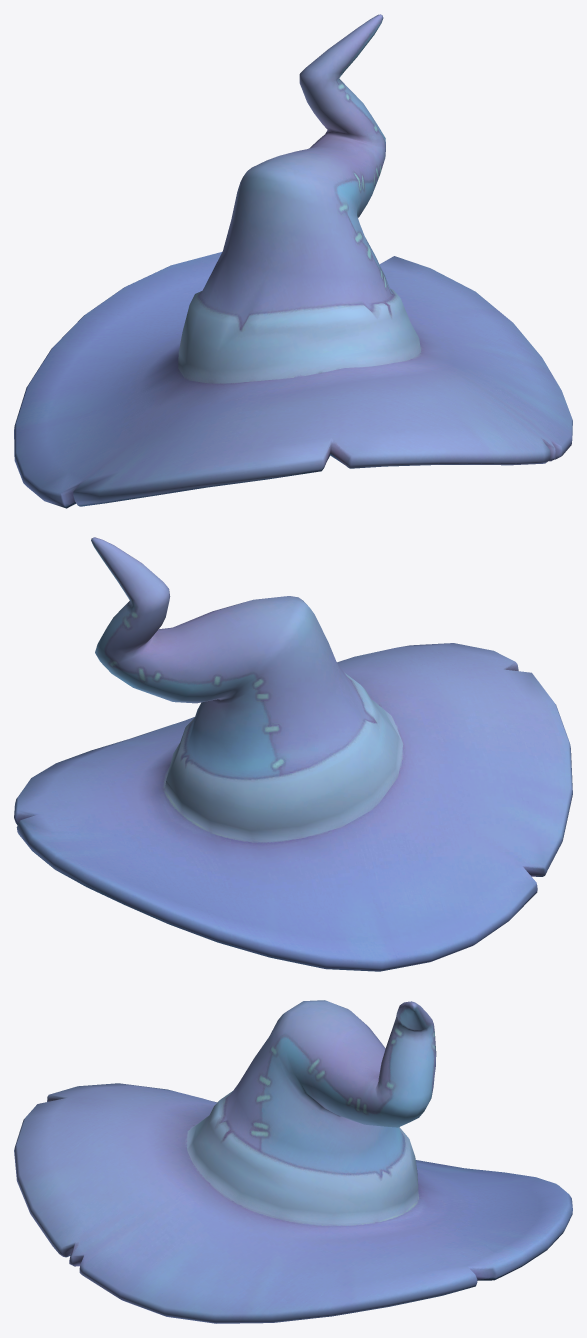
The model's file is Wiz_Biz.dae.
The picture shows the model from 3 angles, top to bottom: view 1: azimuth 30°, elevation 25°; view 2: azimuth 150°, elevation 25°; view 3: azimuth 270°, elevation 25°; orthographic projection. The views are drawn at different scales.
Visible parts, largest first — view 1: SM_HT134_CP7777.mo; view 2: SM_HT134_CP7777.mo; view 3: SM_HT134_CP7777.mo.
Boxes of the visible parts, bbox=[...] form: SM_HT134_CP7777.mo: bbox=[14, 14, 572, 508]; SM_HT134_CP7777.mo: bbox=[14, 537, 572, 971]; SM_HT134_CP7777.mo: bbox=[14, 1000, 572, 1323].
Size of the model in its own units: 0.5944 by 0.6647 by 0.4282.
Materials: 1 (1 with a texture image).
